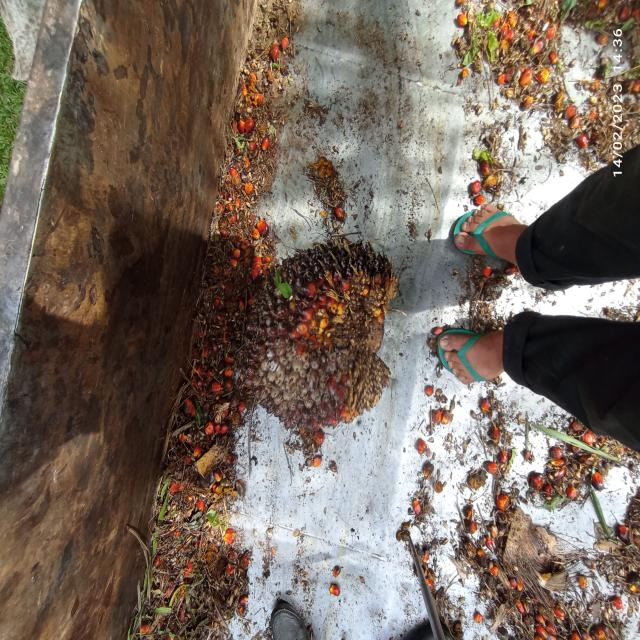fraksi 00: (203, 213, 418, 464)
